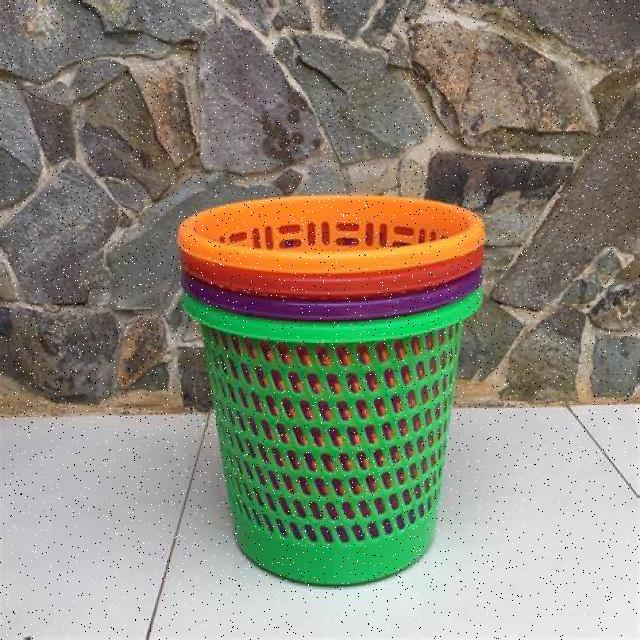garbage container: (130, 152, 576, 597)
